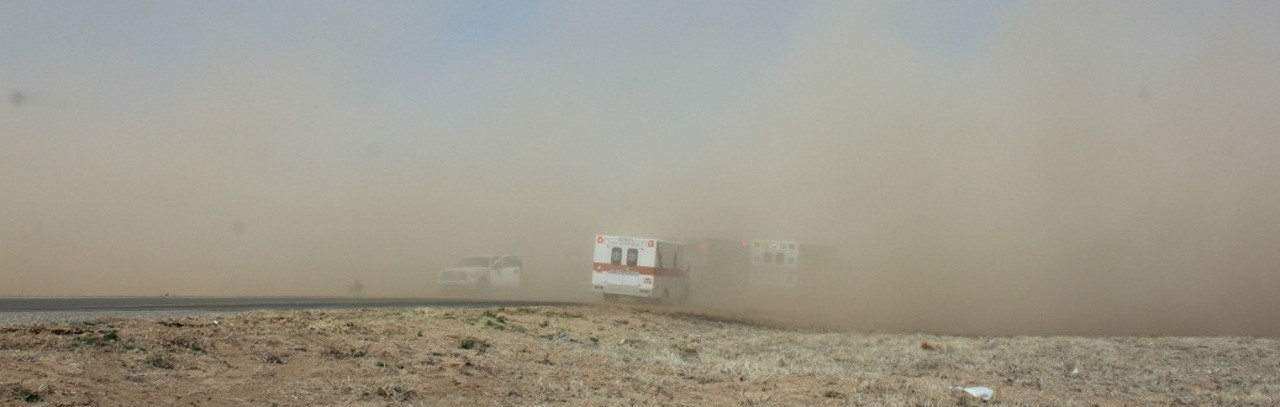car: (590, 234, 687, 303), (747, 237, 846, 300), (438, 254, 524, 289)
